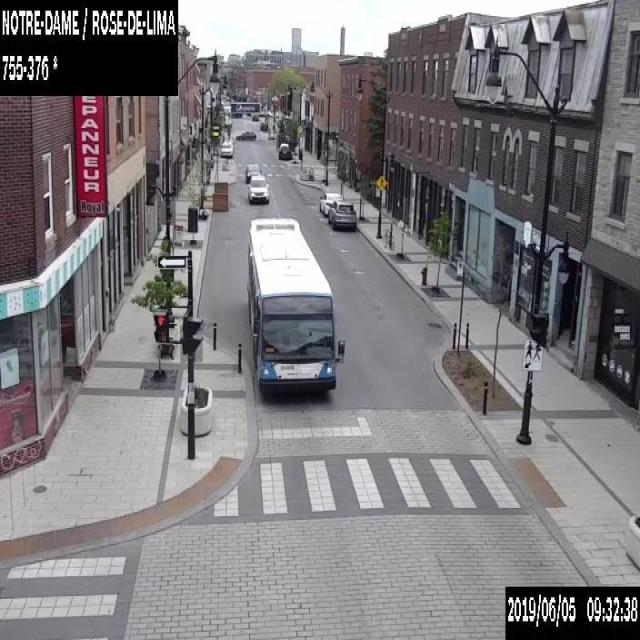bus: (246, 217, 344, 400), (229, 102, 260, 112)
vehicle: (327, 199, 356, 230), (247, 174, 268, 203), (319, 192, 342, 215), (244, 162, 262, 182), (219, 140, 232, 157), (235, 130, 255, 139), (223, 105, 230, 126), (278, 149, 291, 159), (260, 122, 268, 130), (279, 142, 288, 149), (231, 111, 241, 117), (258, 111, 269, 116), (252, 113, 258, 120), (225, 95, 230, 99)
